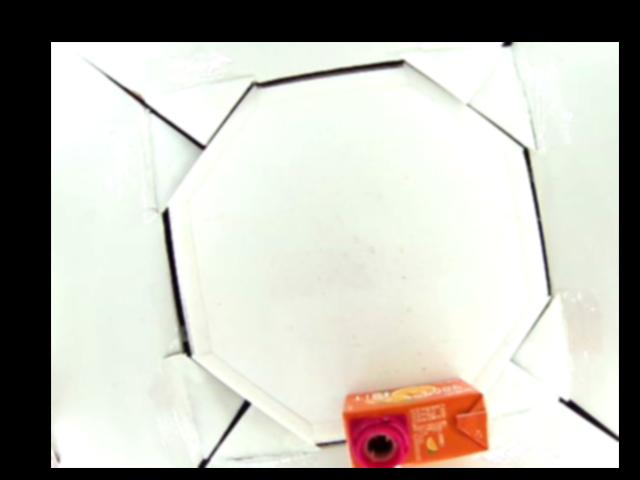Bottle: (342, 376, 494, 467)
